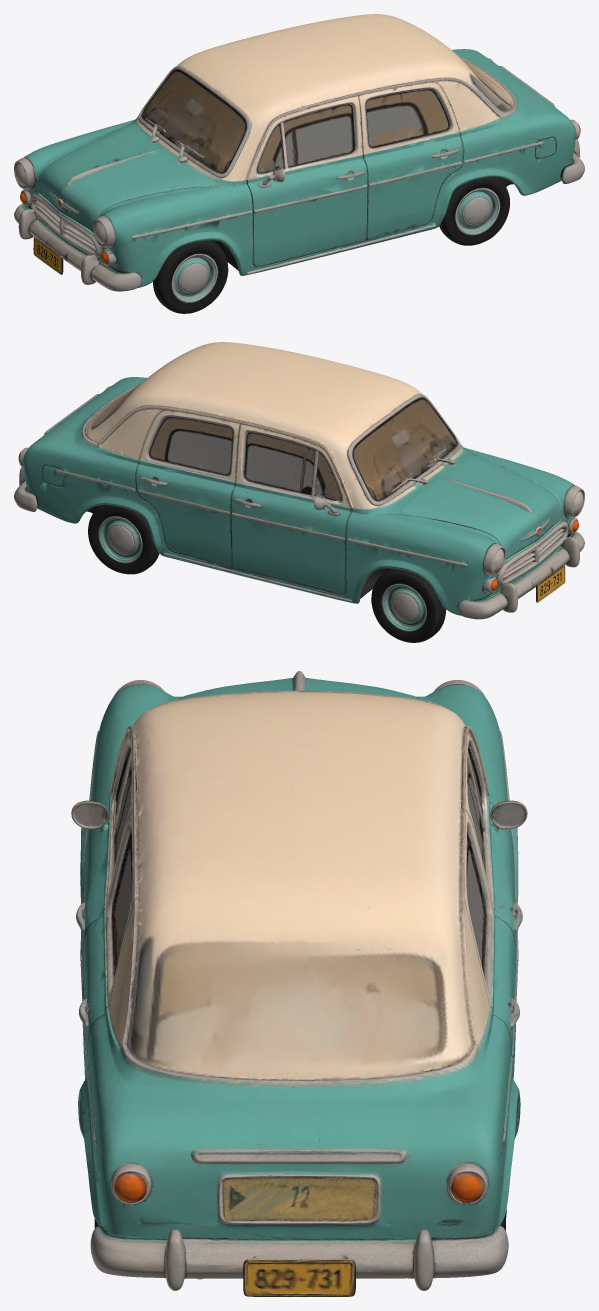
File: car.glb
3 renders of one model, top to bottom at view 1: azimuth 30°, elevation 25°; view 2: azimuth 150°, elevation 25°; view 3: azimuth 270°, elevation 25°, orthographic. The views are drawn at different scales.
Size of the model in its own units: 1.9 by 0.6801 by 0.7502.
1 material, 1 textured.
